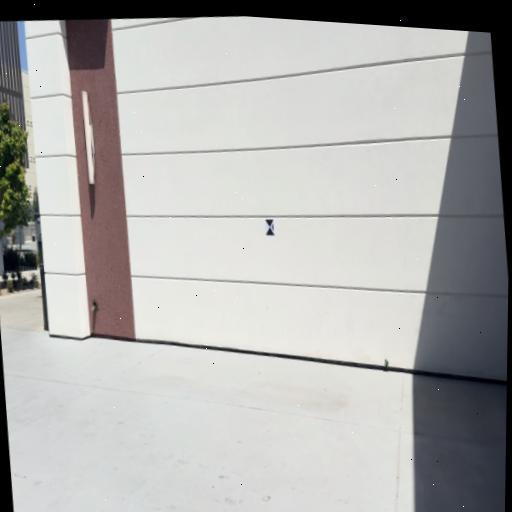target4: (265, 219, 275, 238)
